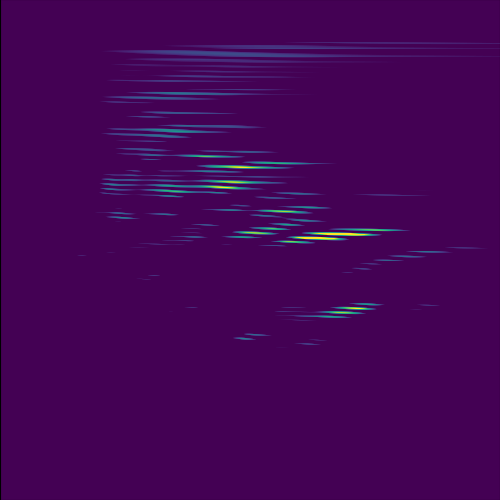semblance: (191, 157, 306, 194), (282, 223, 400, 250), (305, 297, 390, 323)
